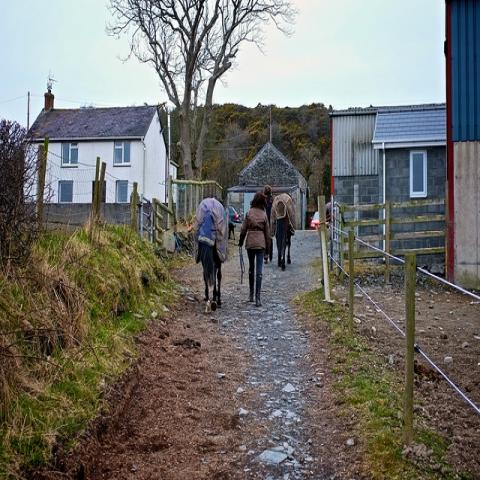car: (228, 204, 243, 223), (310, 211, 320, 230)
